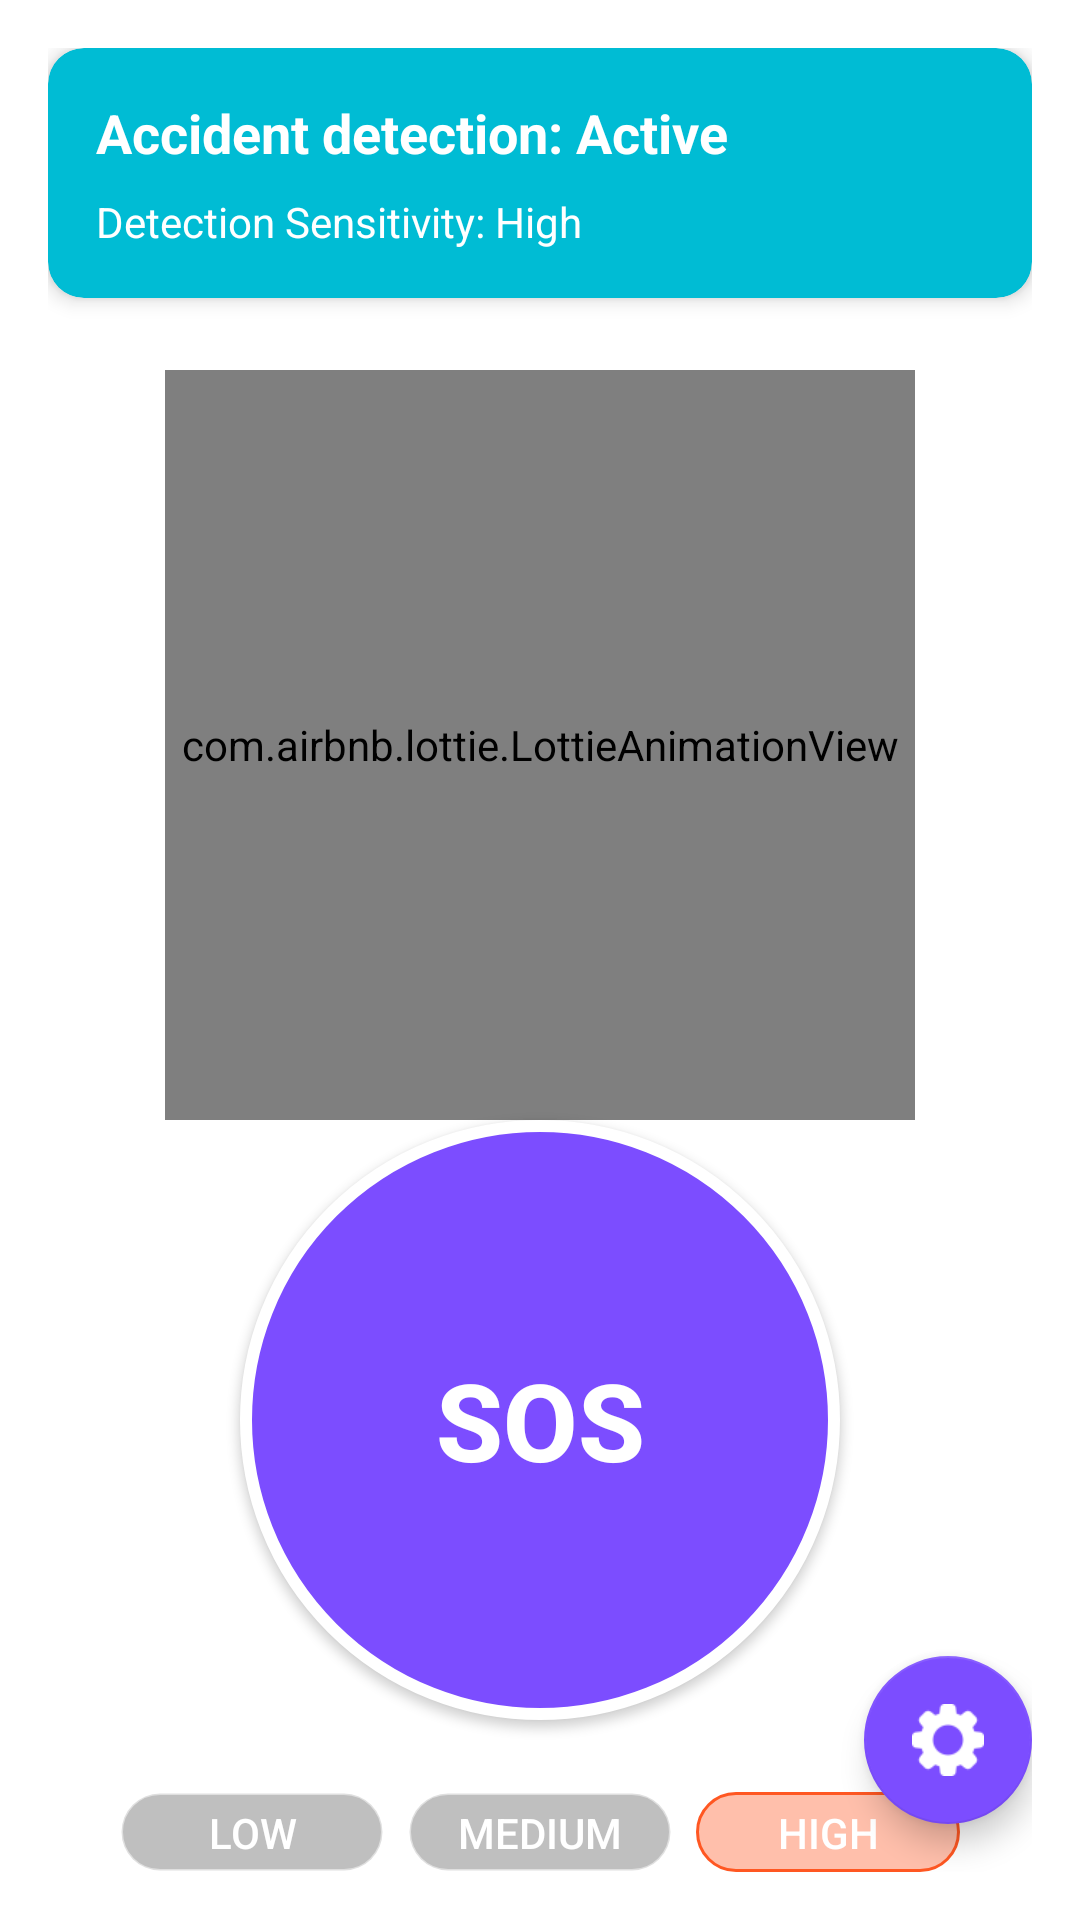

Screen size 1080*1920. Icon name, then its center in pixels as (x=x, y=y):
Emergency settings: (x=948, y=1740)
